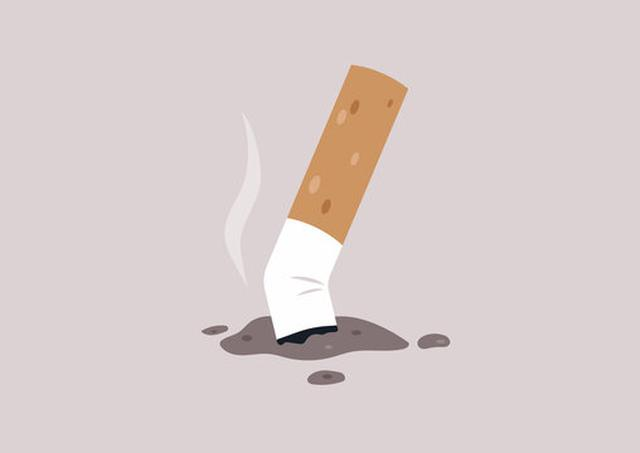Cigarette: (262, 63, 409, 344)
